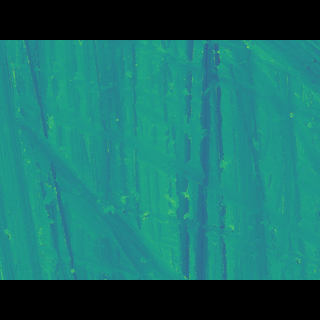Loch: (134, 73, 286, 194)
